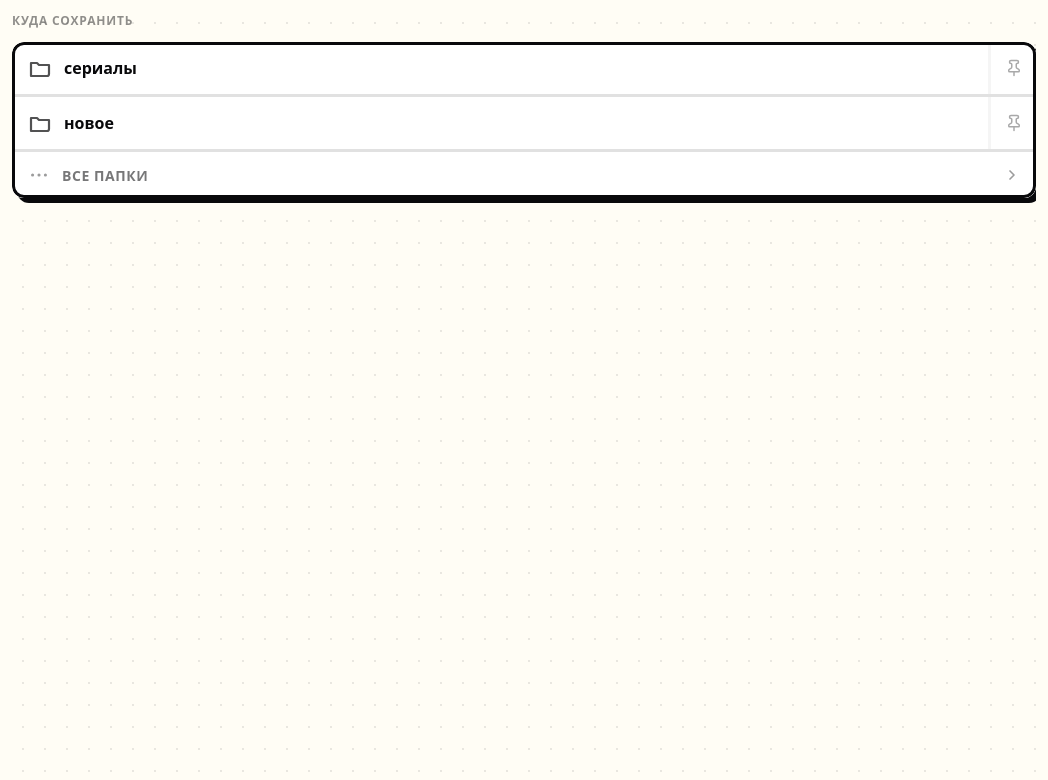
Test: FolderPicker — browse tree (#2) › opens the tree via «Браузить все папки» and lists the shares
Click the button with test id "open-tree-btn".
click(105, 176)  # box [12,149,1036,198]
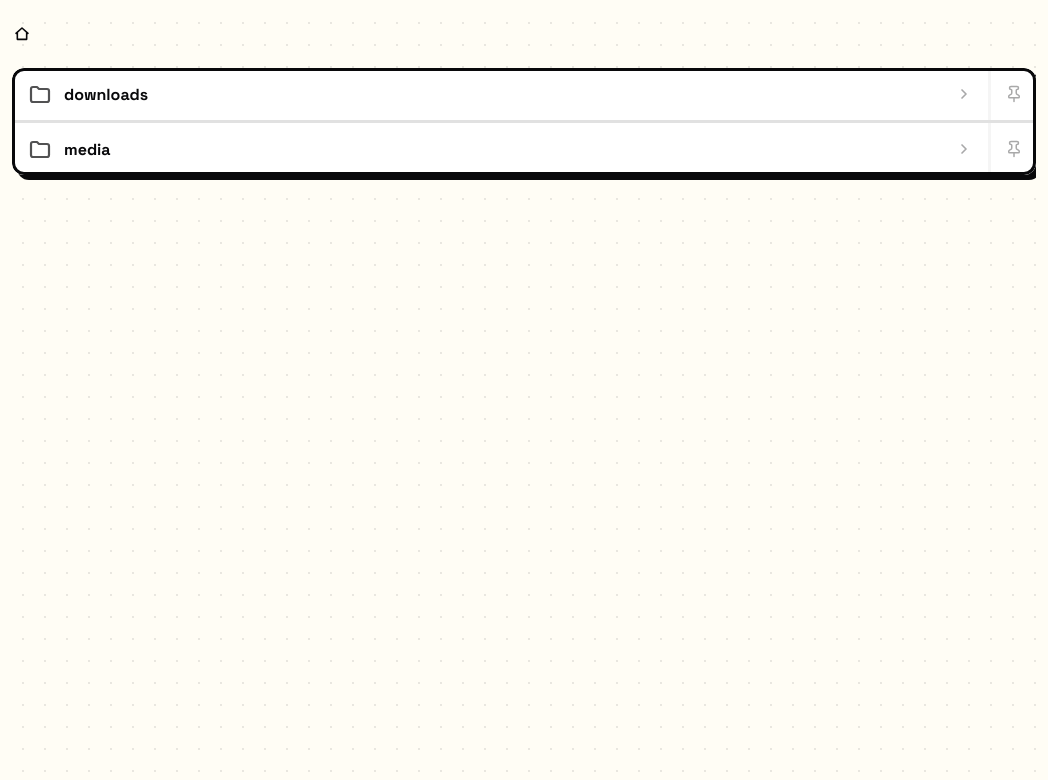
Expected: the button with test id "folder-item" showing "downloads" is shown, [12,68,988,120]
Expected: the text "downloads" is shown, [64,84,148,104]
Expected: the text "media" is shown, [64,138,111,160]
